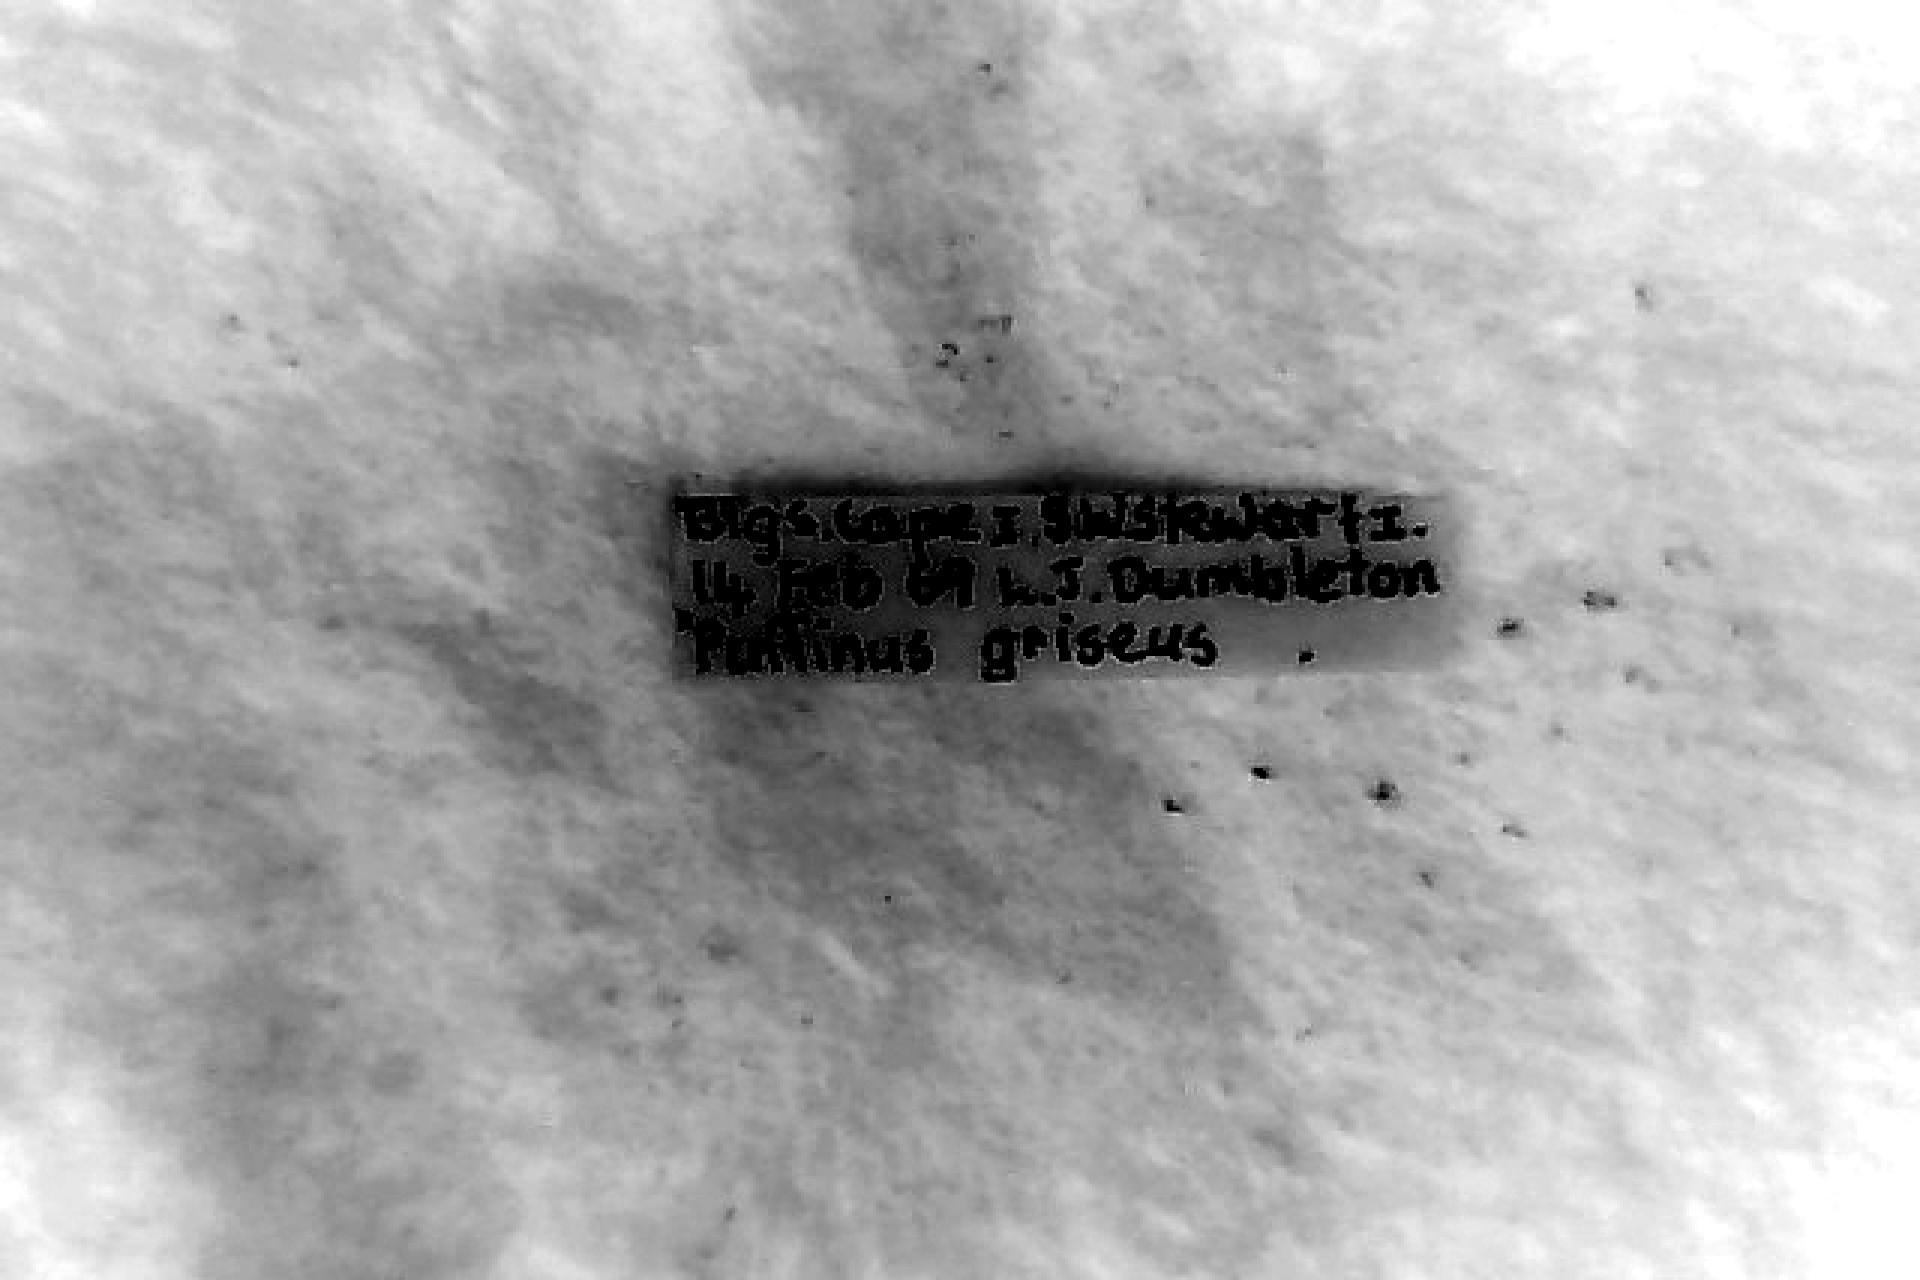hand_label: (674, 490, 1451, 681)
